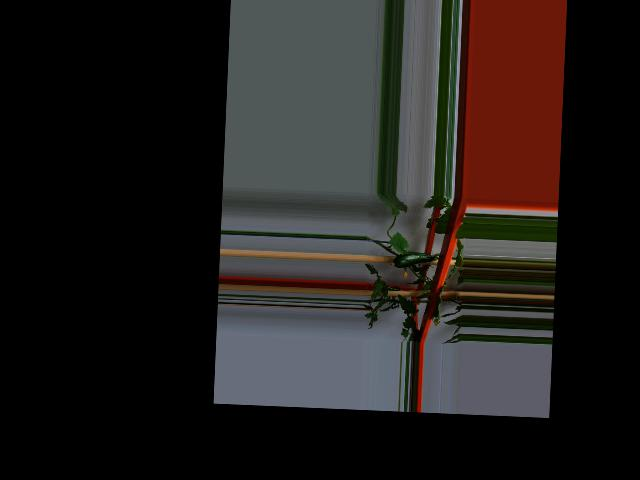cucumber: (389, 250, 432, 269)
